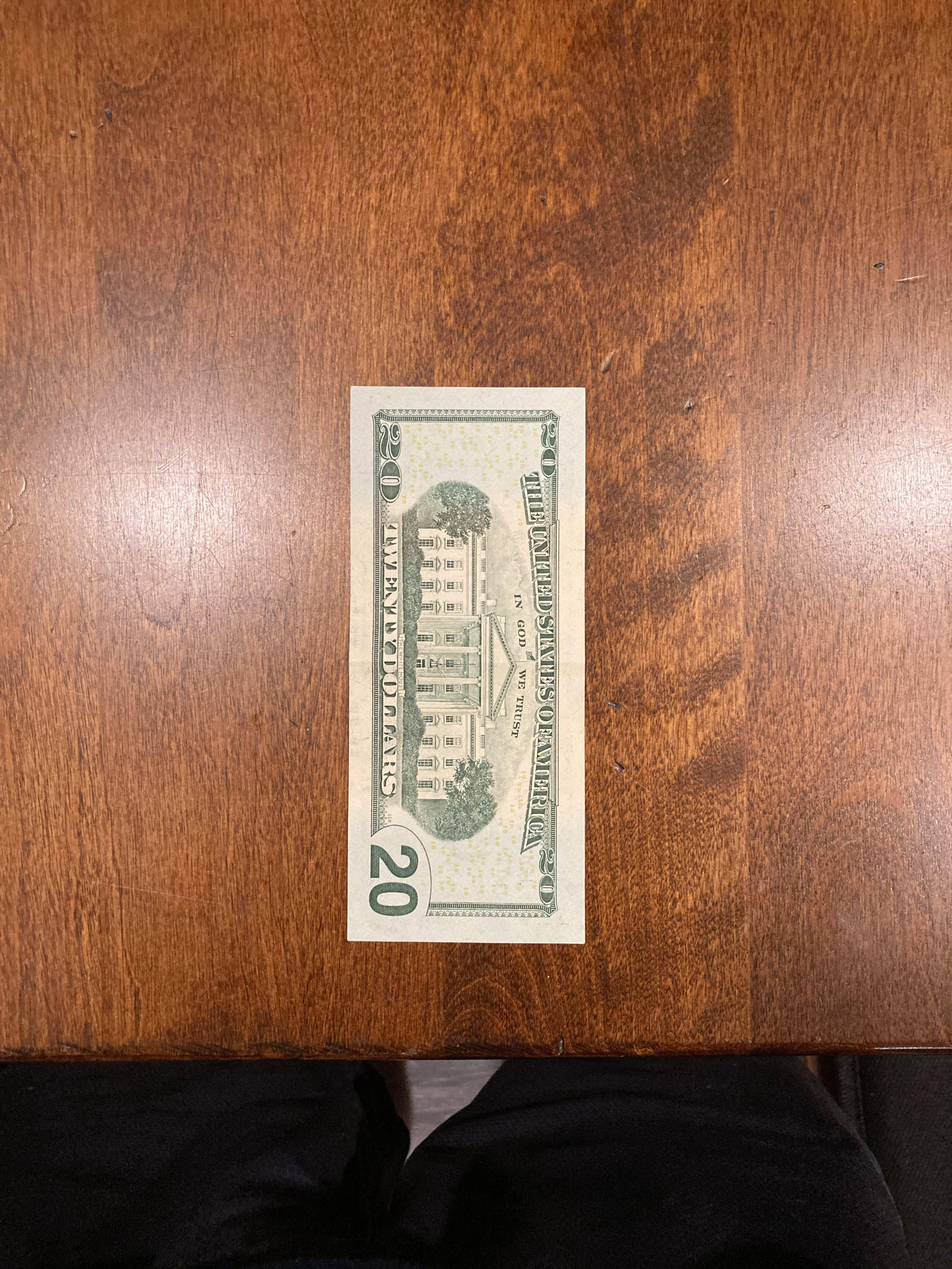twenty-back: (344, 386, 588, 944)
